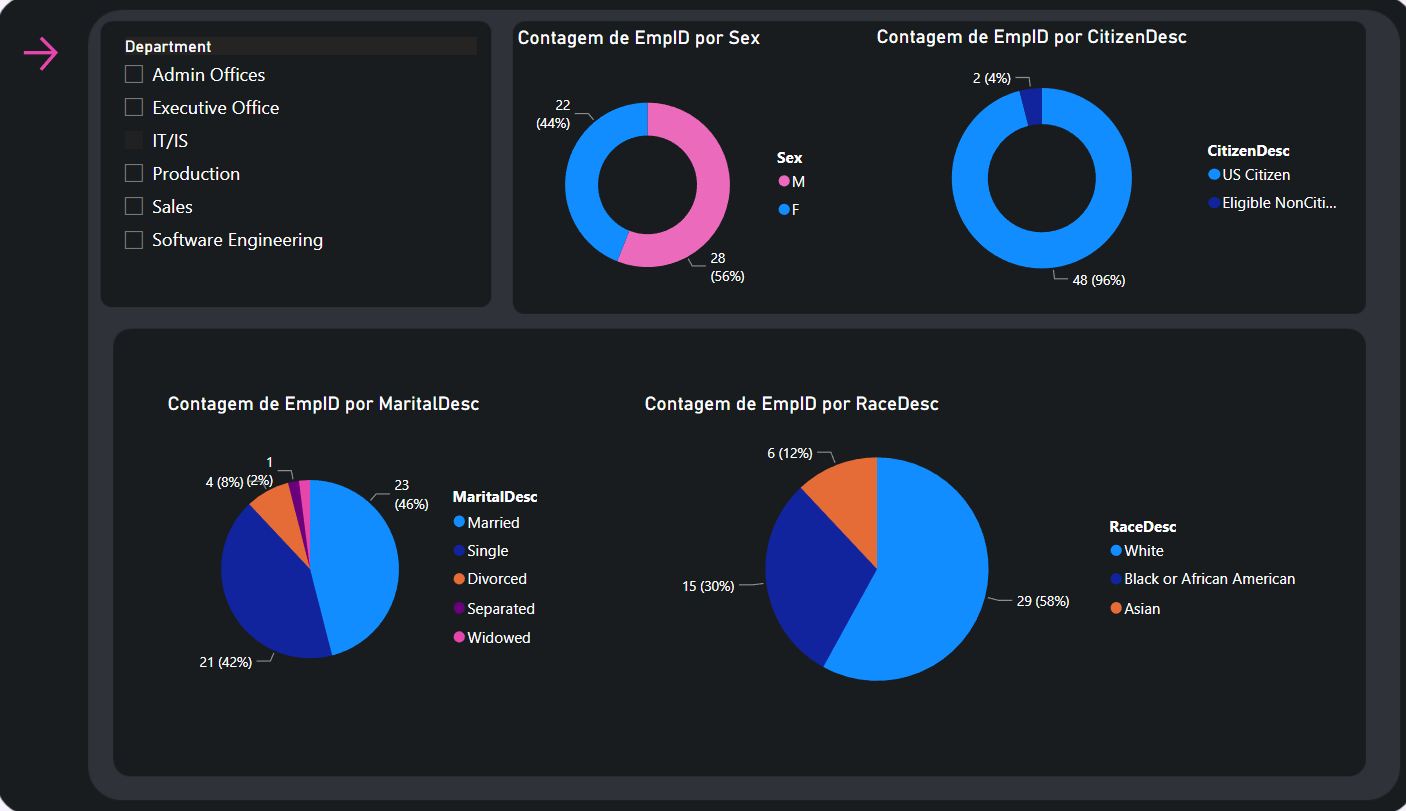

Layout of this report page (visuals, bound fields, positions):
{"tool":"powerbi","page":{"name":"Main","canvas":[1280,720],"ordinal":0},"visuals":[{"type":"donutChart","fields":{"Y":["CountNonNull(HRDataset.EmpID)"],"Category":["HRDataset.Sex"]},"box":[487.8,25.5,280.6,260.2],"z":0},{"type":"pieChart","fields":{"Y":["CountNonNull(HRDataset.EmpID)"],"Category":["HRDataset.MaritalDesc"]},"box":[180,346.8,352.1,291.5],"z":1000},{"type":"donutChart","fields":{"Y":["CountNonNull(HRDataset.EmpID)"],"Category":["HRDataset.CitizenDesc"]},"box":[802.7,24.5,425.5,250],"z":2000},{"type":"pieChart","fields":{"Y":["CountNonNull(HRDataset.EmpID)"],"Category":["HRDataset.RaceDesc"]},"box":[598.8,346.8,590.9,291.5],"z":3000},{"type":"slicer","fields":{"Values":["HRDataset.Department"]},"box":[134.3,29.9,334.5,240.6],"z":4000},{"type":"actionButton","box":[52.7,29.9,44.8,40.4],"z":5000}]}

Visuals, with their boxes in screenshot pixels (x1, y1, x2, y2), scaled from the page's 1280x720 canvas onto the 1406x811 screenshot:
donutChart - CountNonNull(HRDataset.EmpID) x HRDataset.Sex: <bbox>536, 29, 844, 322</bbox>
pieChart - CountNonNull(HRDataset.EmpID) x HRDataset.MaritalDesc: <bbox>198, 391, 584, 719</bbox>
donutChart - CountNonNull(HRDataset.EmpID) x HRDataset.CitizenDesc: <bbox>882, 28, 1349, 309</bbox>
pieChart - CountNonNull(HRDataset.EmpID) x HRDataset.RaceDesc: <bbox>658, 391, 1307, 719</bbox>
slicer - HRDataset.Department: <bbox>148, 34, 515, 305</bbox>
actionButton: <bbox>58, 34, 107, 79</bbox>
